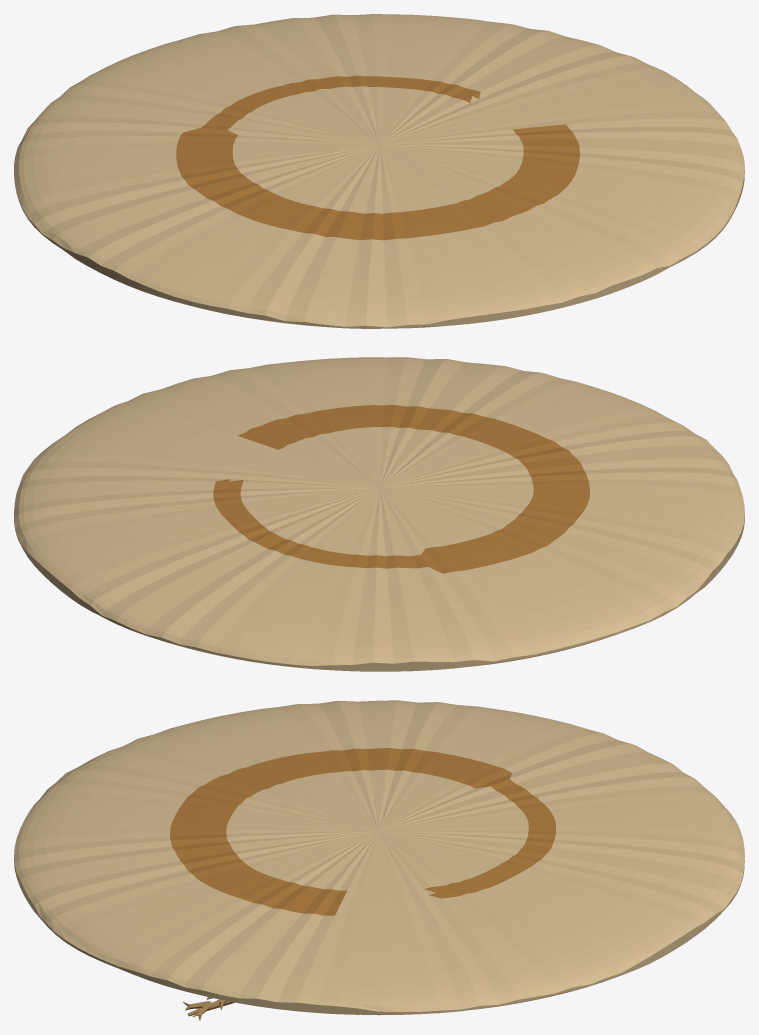
Rendered from eldonia.glb.
The picture shows the model from 3 angles, top to bottom: view 1: azimuth 30°, elevation 25°; view 2: azimuth 150°, elevation 25°; view 3: azimuth 270°, elevation 25°; orthographic projection.
Parts seen in each view (by area): view 1: whole_soft_disc_with_flush_internal_anatomy_projection; view 2: whole_soft_disc_with_flush_internal_anatomy_projection; view 3: whole_soft_disc_with_flush_internal_anatomy_projection.
Boxes of the visible parts, box(x1,y1,x2,y2) form: whole_soft_disc_with_flush_internal_anatomy_projection: box(14, 14, 744, 328); whole_soft_disc_with_flush_internal_anatomy_projection: box(14, 357, 744, 671); whole_soft_disc_with_flush_internal_anatomy_projection: box(14, 700, 744, 1015).
Bounding box in the file's own units: 0.1504 × 0.0242 × 0.15.
